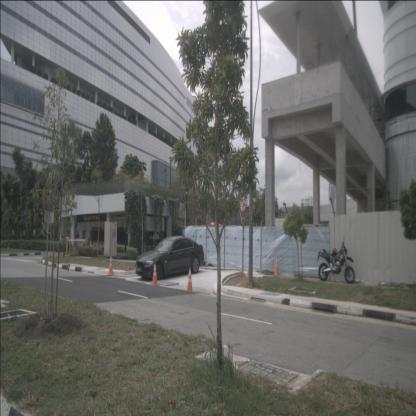cone: (185, 267, 194, 292), (150, 263, 158, 286), (107, 254, 115, 276), (272, 255, 280, 276)
